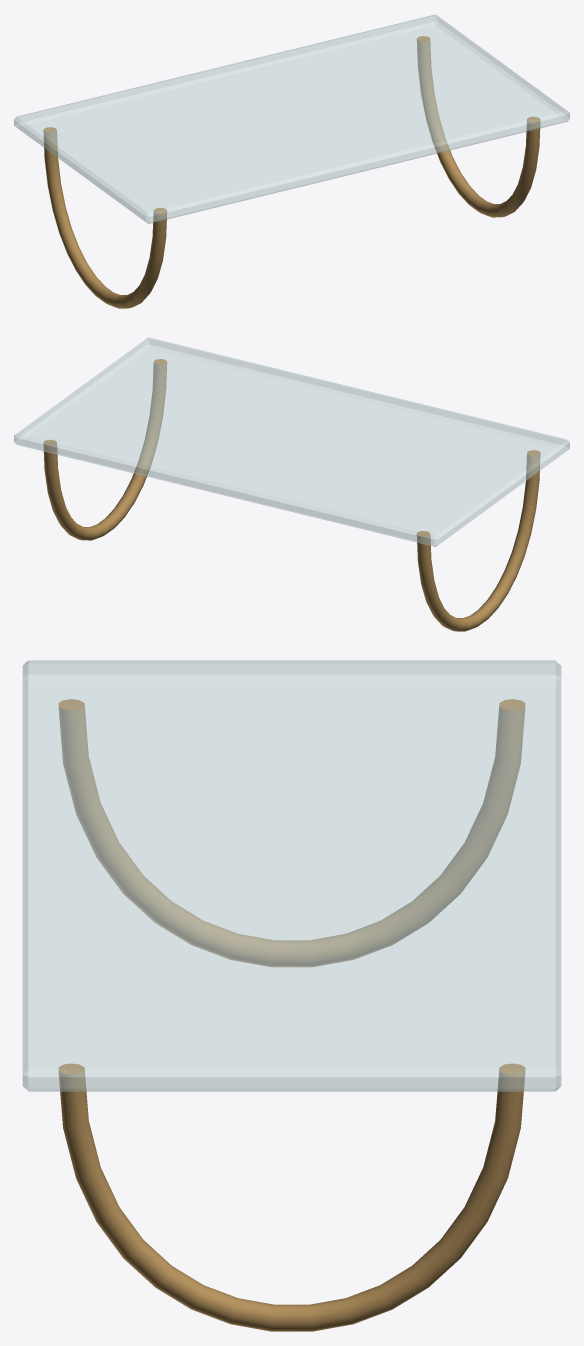
Rendered from i_table_9.glb.
3 renders of one model, top to bottom at view 1: azimuth 30°, elevation 25°; view 2: azimuth 150°, elevation 25°; view 3: azimuth 270°, elevation 25°, orthographic. The views are drawn at different scales.
Parts seen in each view (by area): view 1: o, o.001, o.002; view 2: o, o.001, o.002; view 3: o, o.002, o.001.
Boxes of the visible parts, x1,y1,x2,y2 form: o: (14, 14, 569, 223); o.001: (43, 127, 166, 308); o.002: (417, 36, 540, 217); o: (14, 337, 569, 546); o.001: (417, 450, 540, 631); o.002: (43, 359, 166, 540); o: (22, 660, 561, 1091); o.002: (58, 1063, 525, 1331); o.001: (58, 699, 525, 966).
Bounding box in the file's own units: 1 × 0.3185 × 0.55.
